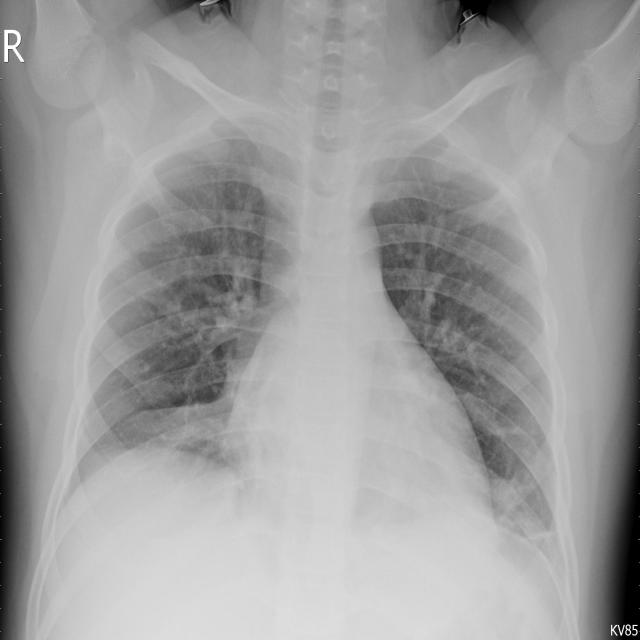low-pneumonia: (155, 117, 295, 262), (488, 362, 569, 537), (198, 265, 282, 383), (386, 124, 489, 215), (134, 390, 239, 467)
